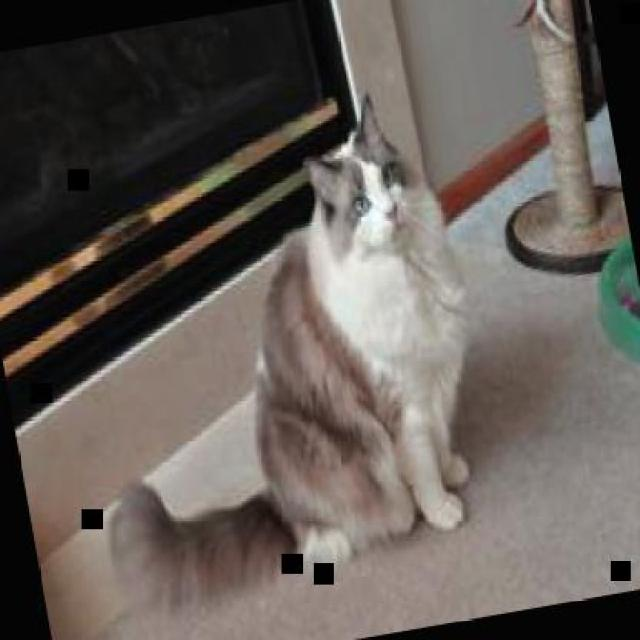cat: (37, 84, 501, 622)
